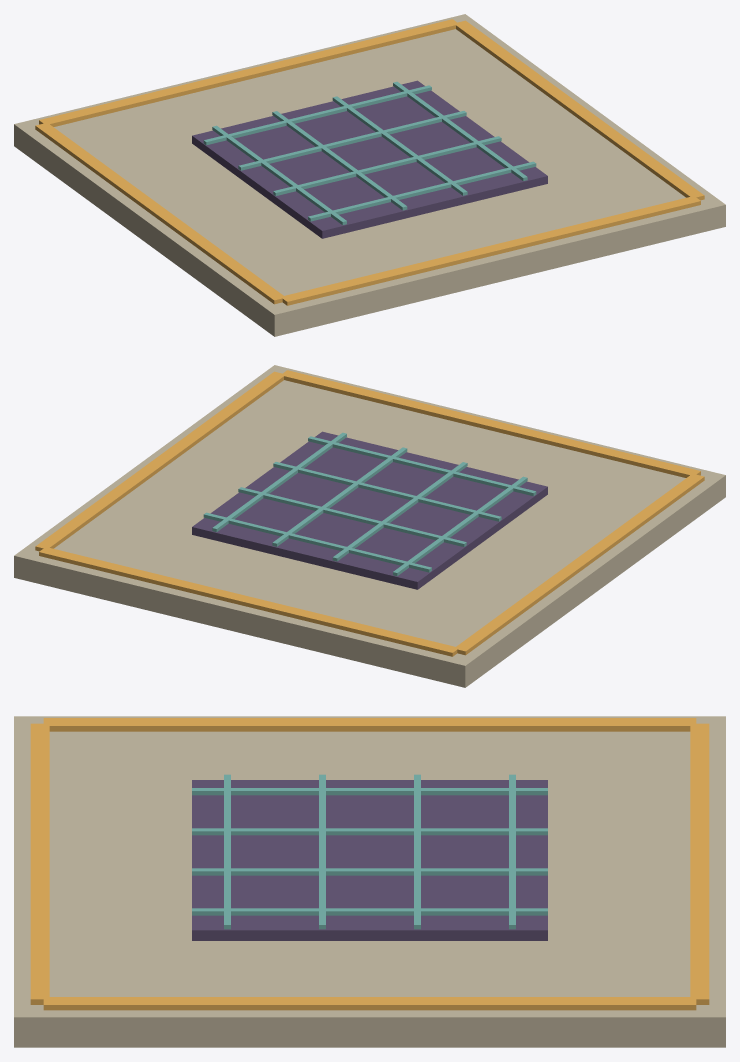
File: space_die_event_face_5.glb
The picture shows the model from 3 angles, top to bottom: view 1: azimuth 30°, elevation 25°; view 2: azimuth 150°, elevation 25°; view 3: azimuth 270°, elevation 25°; orthographic projection. The views are drawn at different scales.
Parts seen in each view (by area): view 1: FixedDetails, BrassTrim; view 2: FixedDetails, BrassTrim; view 3: FixedDetails, BrassTrim.
Boxes of the visible parts, <box> form: FixedDetails: <box>14,14,725,336</box>; BrassTrim: <box>35,19,704,305</box>; FixedDetails: <box>14,365,725,687</box>; BrassTrim: <box>35,370,704,656</box>; FixedDetails: <box>14,716,725,1047</box>; BrassTrim: <box>30,718,709,1010</box>.
Bounding box in the file's own units: 0.6 × 0.044 × 0.6.
